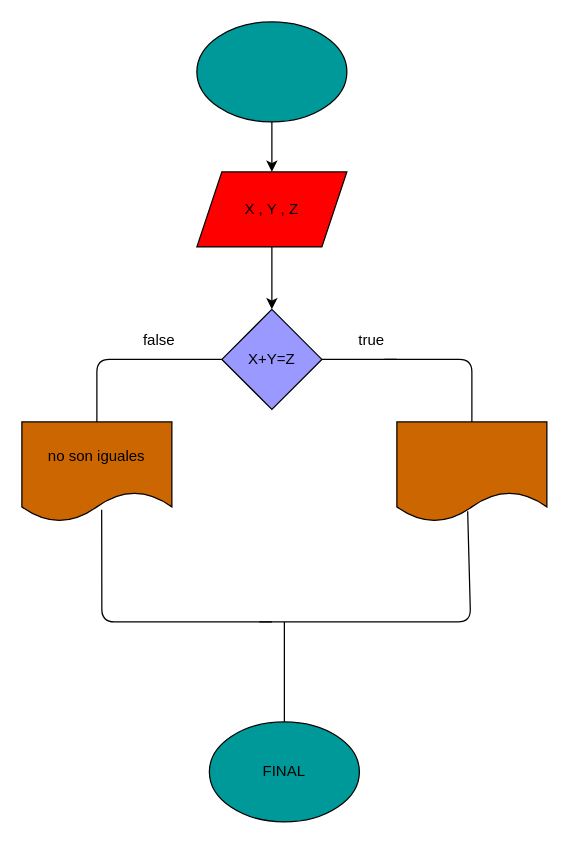
Some shapes in this 569 by 844 pixel diagram are drawn without their labels. The centre of each missing label's shape, as x and y in pixels:
INICIO: (271,71)
si es igual: (471,471)
